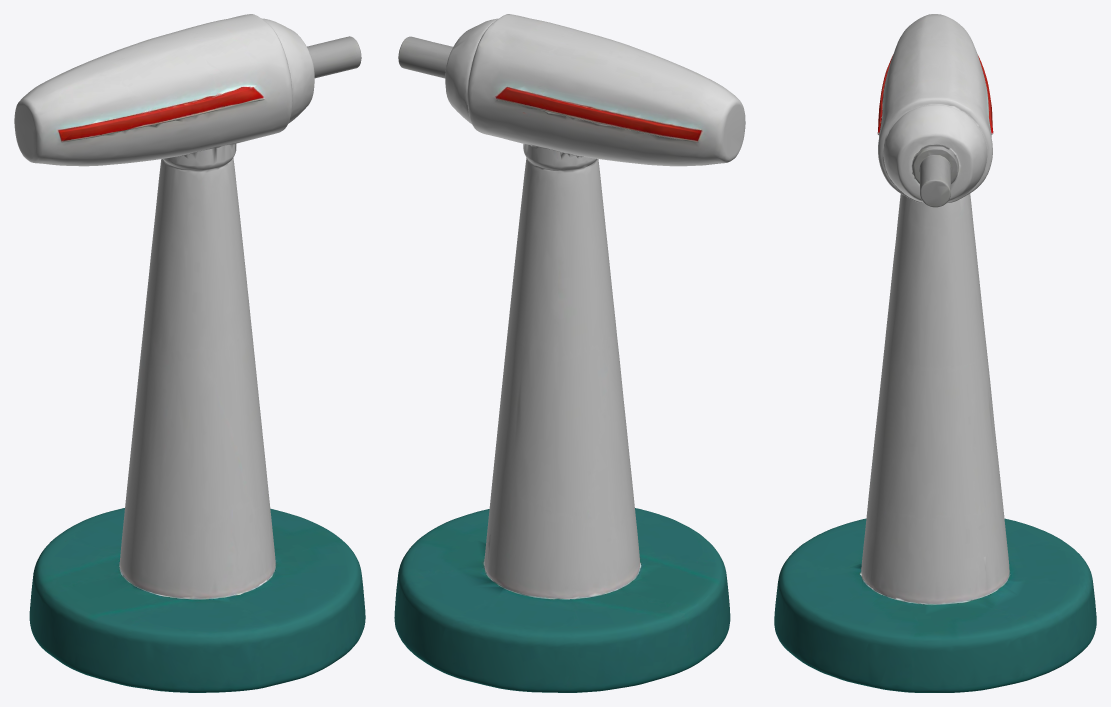
File: windgen.glb
3 renders of one model, left to right at view 1: azimuth 30°, elevation 25°; view 2: azimuth 150°, elevation 25°; view 3: azimuth 270°, elevation 25°, orthographic. The views are drawn at different scales.
Parts seen in each view (by area): view 1: tripo_node_0bfe240e-17e5-481f-9dde-0dd8c4efd4cd; view 2: tripo_node_0bfe240e-17e5-481f-9dde-0dd8c4efd4cd; view 3: tripo_node_0bfe240e-17e5-481f-9dde-0dd8c4efd4cd.
Part boxes in pixels (box(x1,y1,x2,y2)): tripo_node_0bfe240e-17e5-481f-9dde-0dd8c4efd4cd: box(14, 14, 365, 692); tripo_node_0bfe240e-17e5-481f-9dde-0dd8c4efd4cd: box(394, 14, 745, 692); tripo_node_0bfe240e-17e5-481f-9dde-0dd8c4efd4cd: box(774, 14, 1096, 692).
Size of the model in its own units: 0.5815 by 1 by 0.5212.
1 material, 1 textured.
